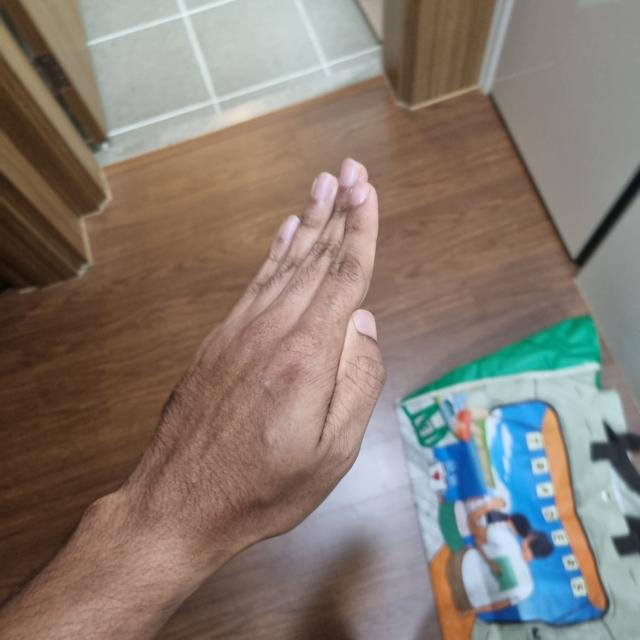Paper: (149, 161, 384, 550)
